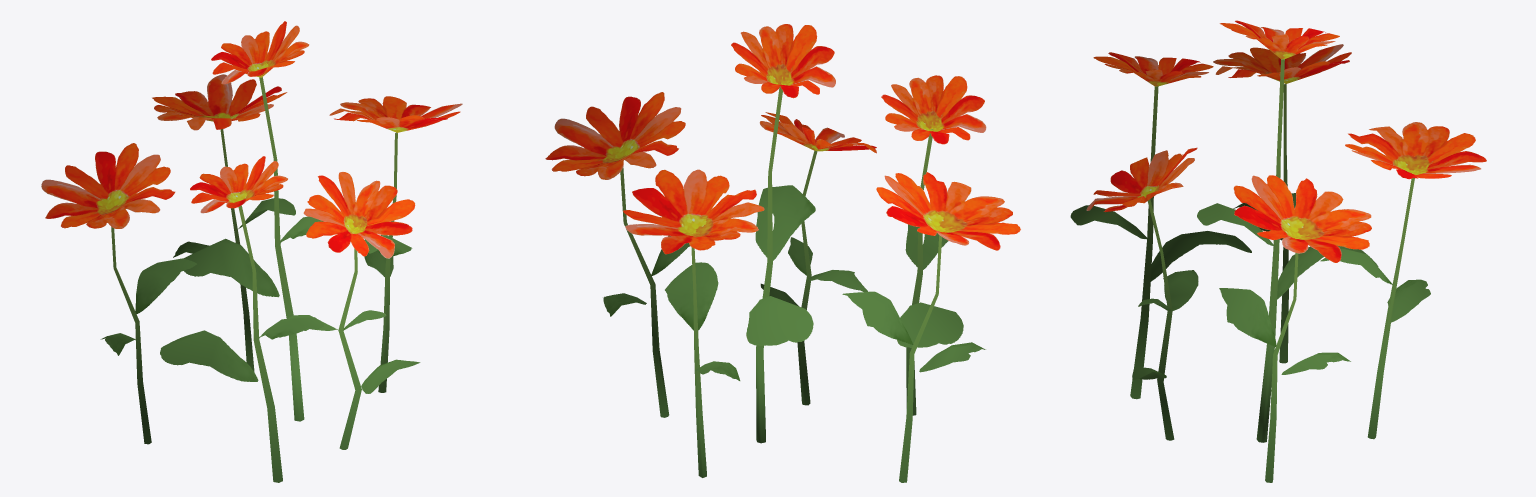
Rendered from FlowersE_Cluster.fbx.
3 views of the same model, side by side, from view 1: azimuth 30°, elevation 25°; view 2: azimuth 150°, elevation 25°; view 3: azimuth 270°, elevation 25° (orthographic). The views are drawn at different scales.
Visible parts, largest first — view 1: FlowerE_ClusterLOD0; view 2: FlowerE_ClusterLOD0; view 3: FlowerE_ClusterLOD0.
Boxes of the visible parts, x1=… form: FlowerE_ClusterLOD0: x1=41, y1=21, x2=462, y2=482; FlowerE_ClusterLOD0: x1=545, y1=24, x2=1020, y2=482; FlowerE_ClusterLOD0: x1=1070, y1=20, x2=1486, y2=482.
Size of what is drawn, in the model's own units: 94.21 by 76.85 by 79.1.
